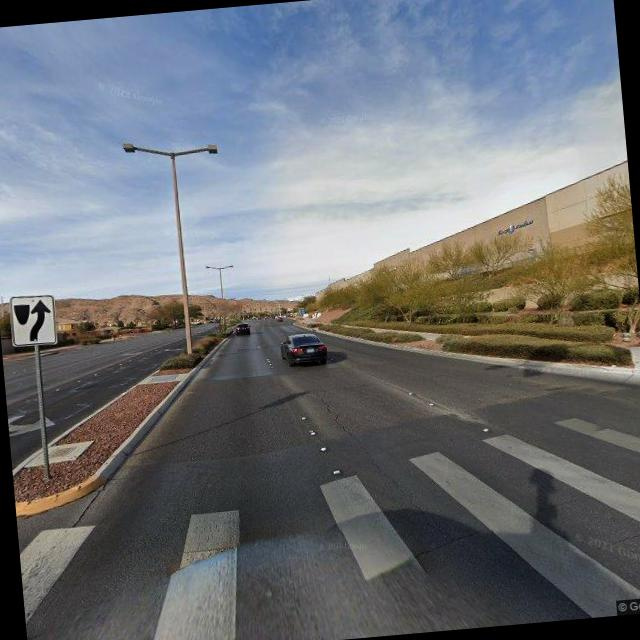crack: (406, 528, 484, 558), (316, 384, 356, 441)
